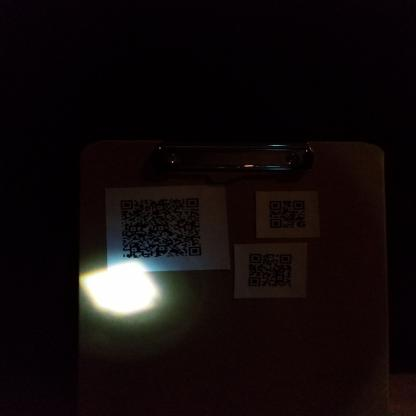qr: (116, 194, 208, 264), (246, 251, 296, 291), (267, 198, 308, 233)
